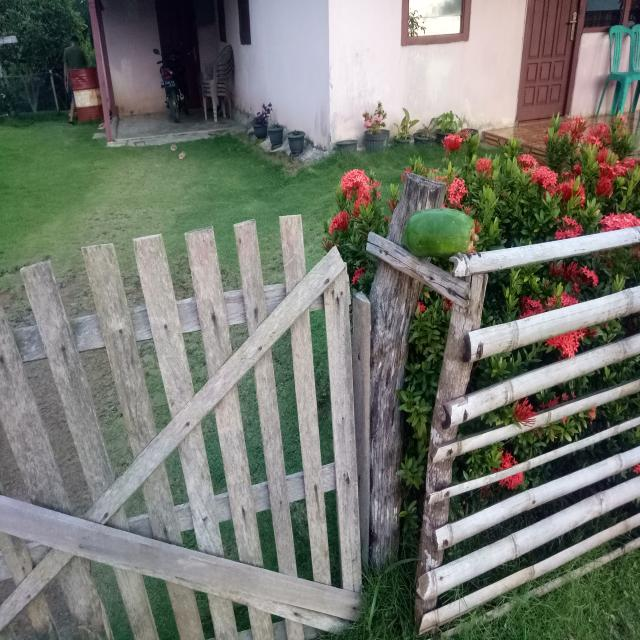Pepaya unrippen: (401, 200, 477, 264)
